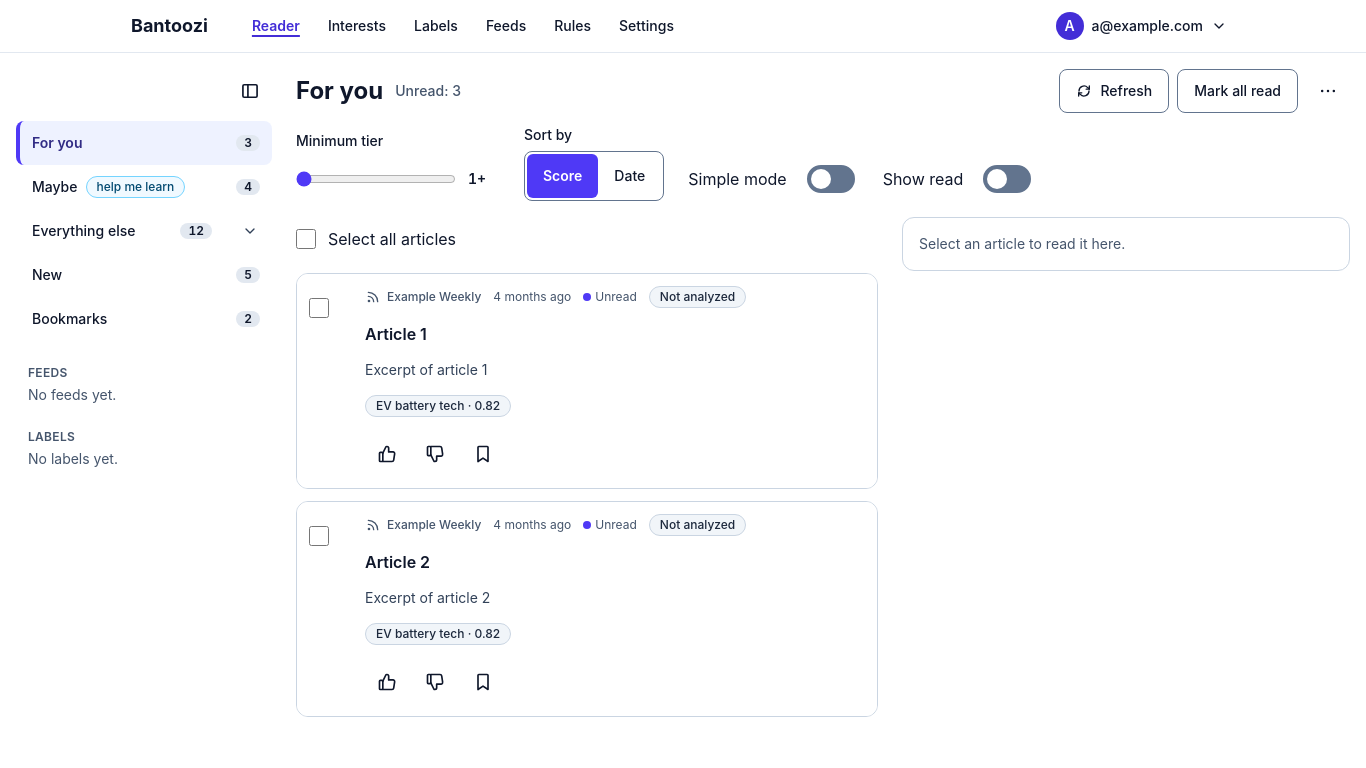
the focus after the Undo of an entry of the Recent actions sheet › stays in the sheet when it was the last entry
Expected: the element "Article 2" is shown, left=296, top=501, right=878, bottom=717
Click the button named "Bookmark" below "Excerpt of article 1" at (483, 454), box left=461, top=432, right=505, bottom=476
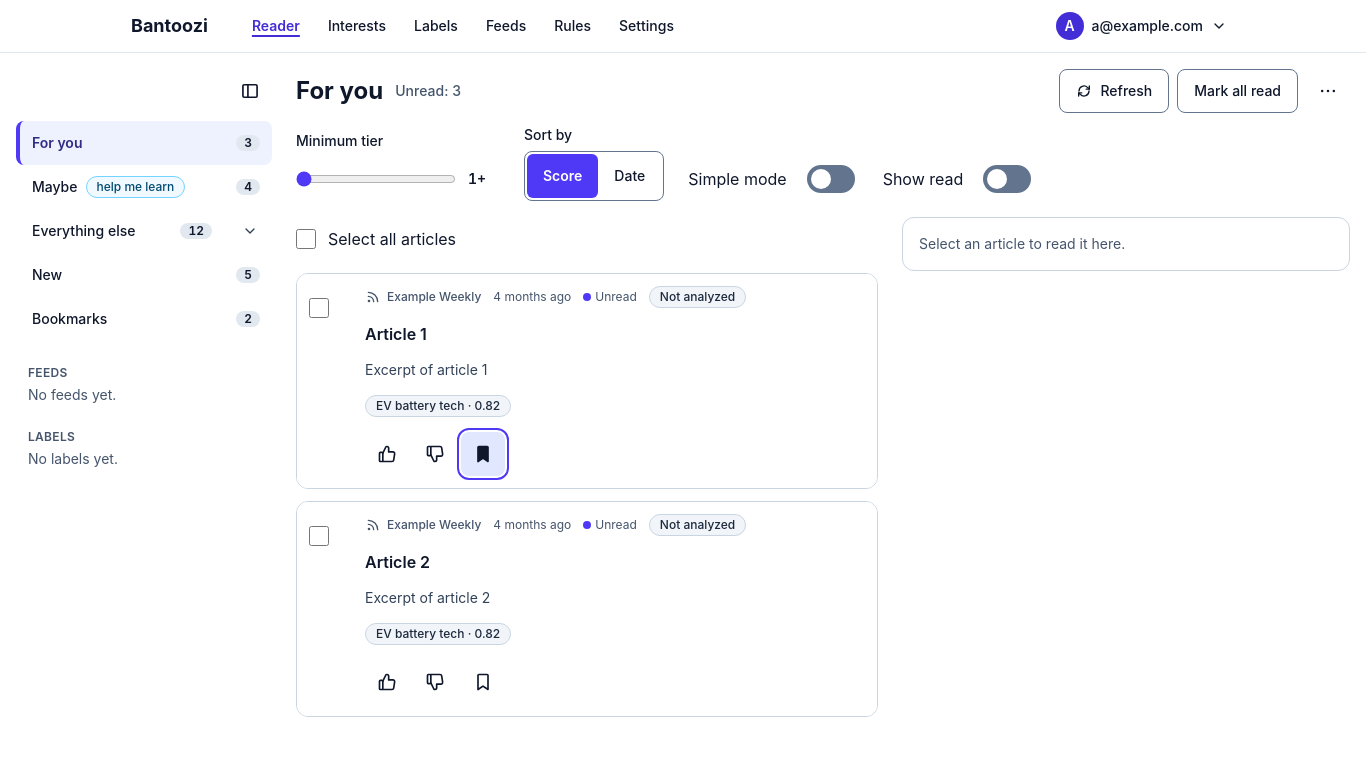
Click the button named "Bookmark" below "Excerpt of article 2" at (483, 682), box left=461, top=660, right=505, bottom=704
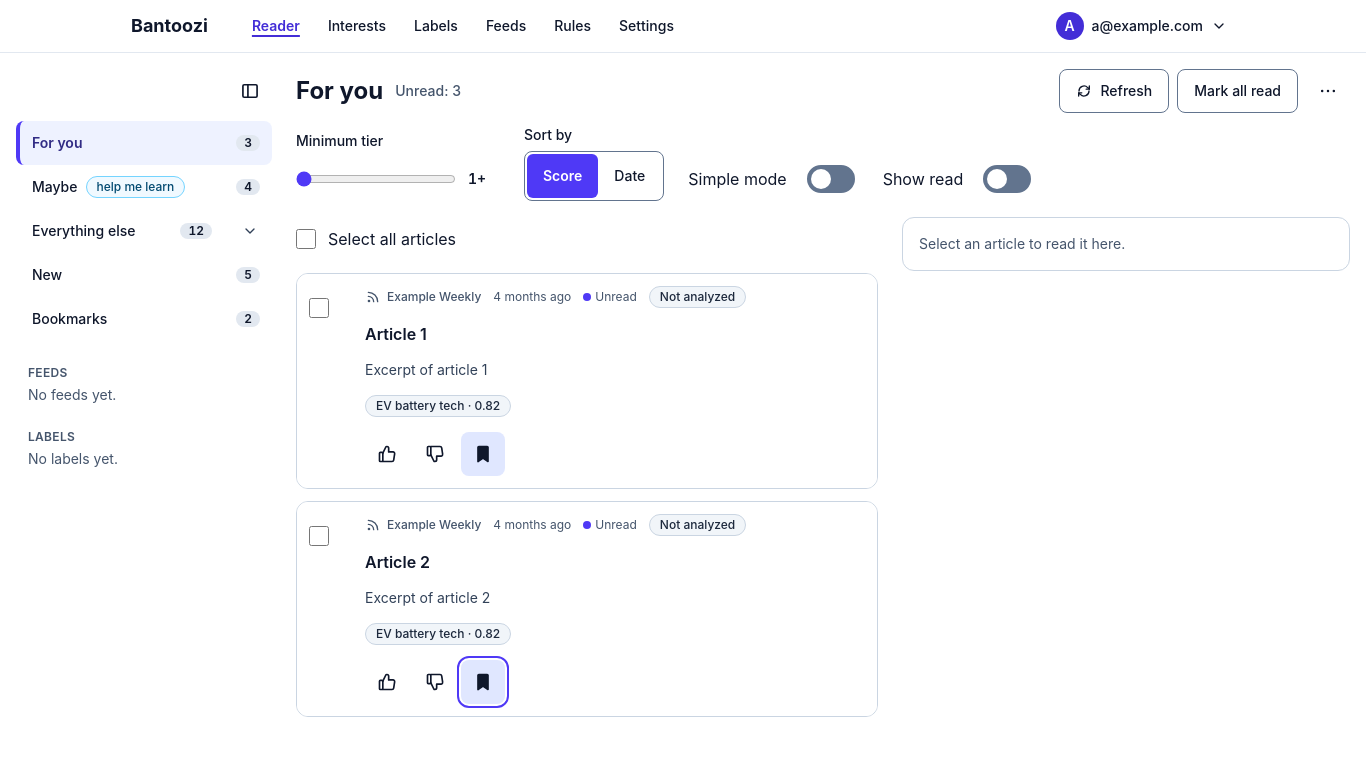
Click the button named "More" at (1328, 91), box left=1306, top=69, right=1350, bottom=113
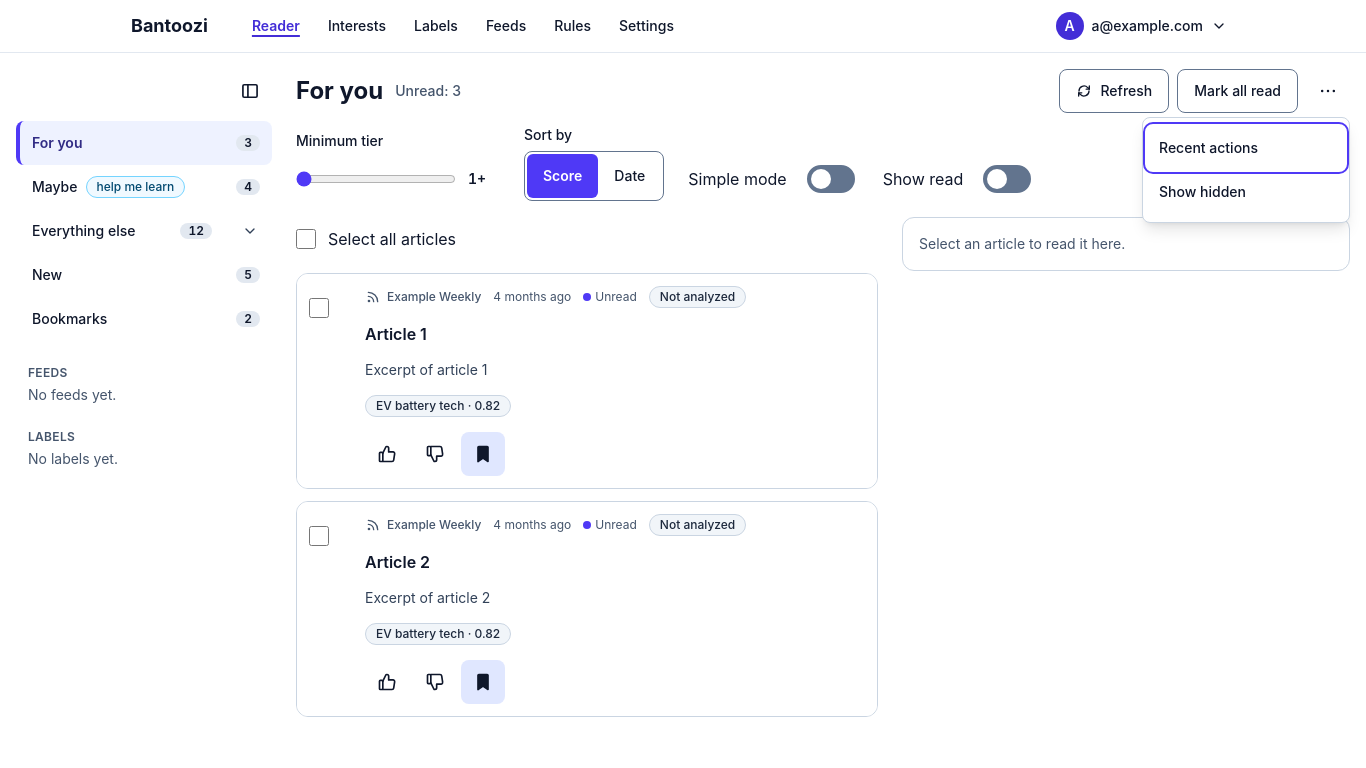
Click the menu item "Recent actions" at (1246, 148), box left=1147, top=126, right=1345, bottom=170
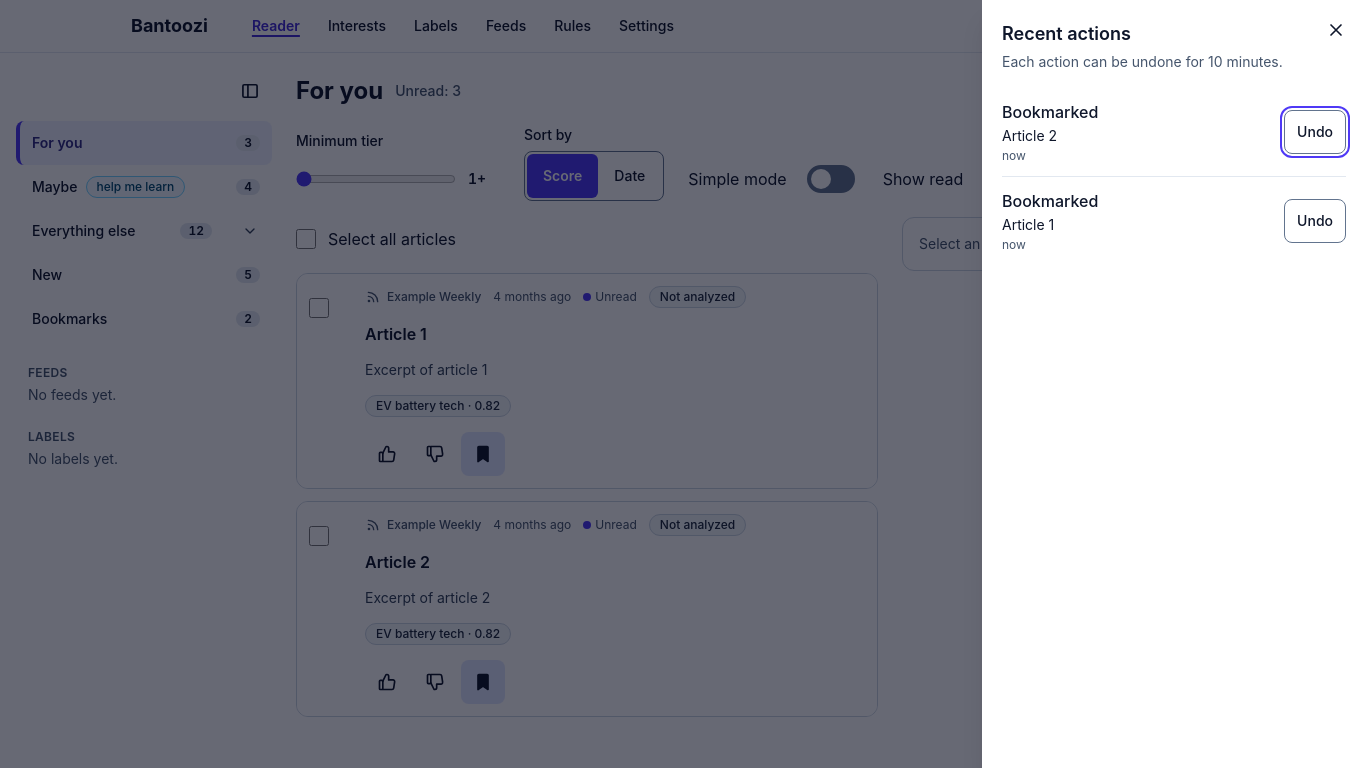
Click the 1st button "Undo" at (1315, 132), box left=1284, top=110, right=1346, bottom=154
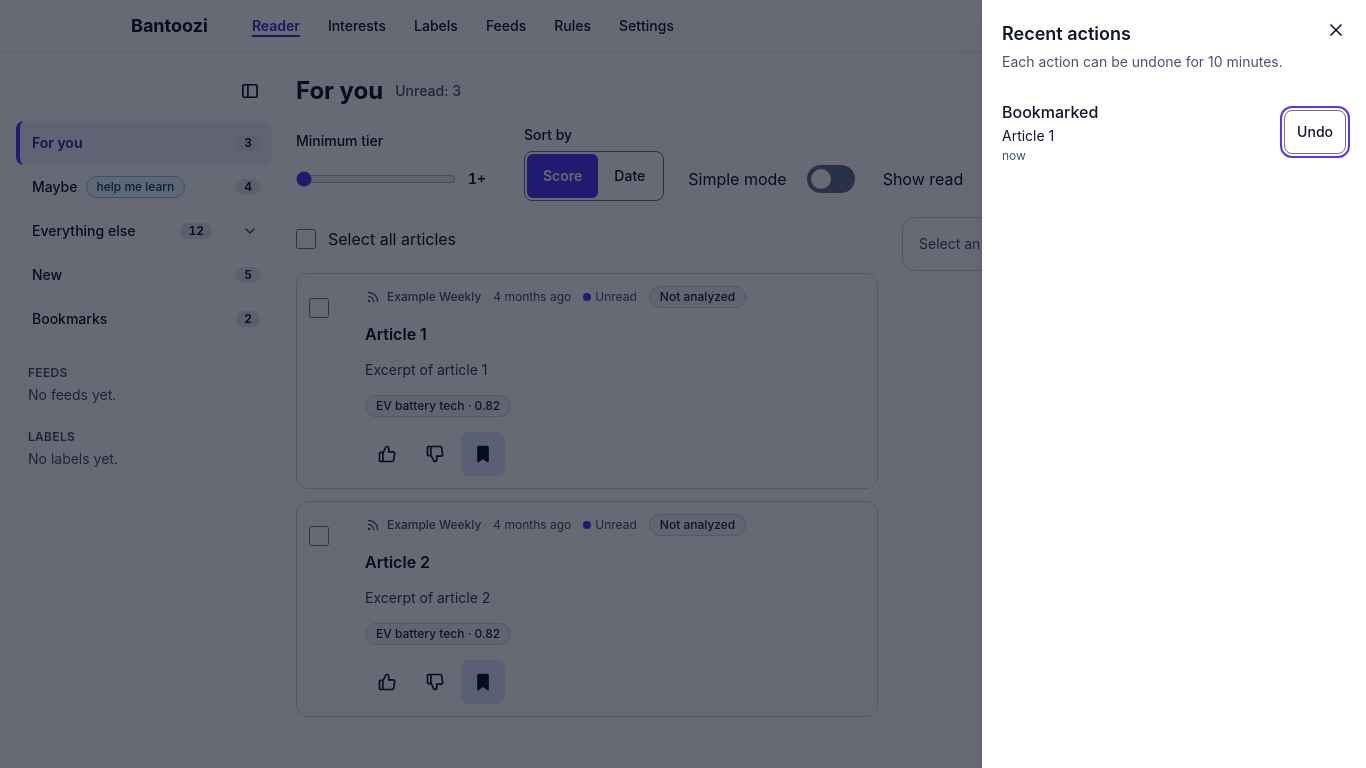
Click the button "Undo" at (1315, 132), box left=1284, top=110, right=1346, bottom=154
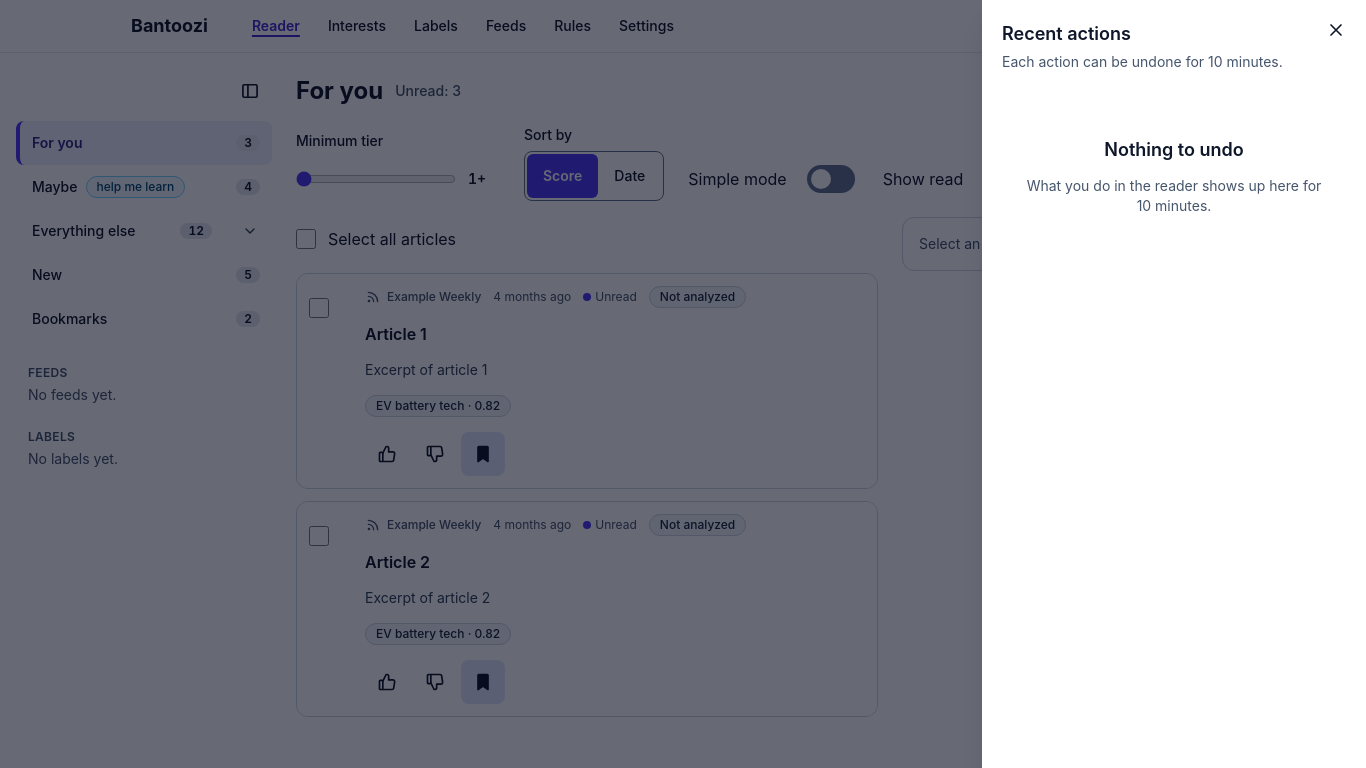
Now no the list item "Bookmarked Article 1 now Undo" are shown
Now the text "Nothing to undo" is shown, box left=1104, top=136, right=1244, bottom=164
